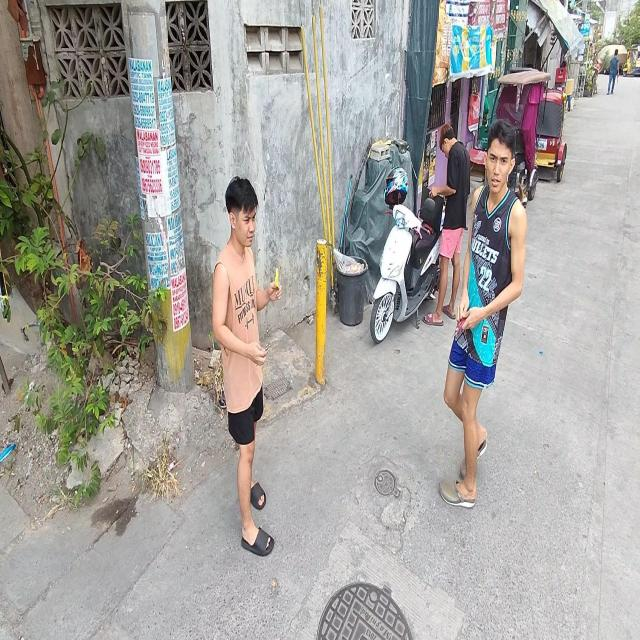scissor: (256, 344, 271, 368), (451, 318, 466, 340)
